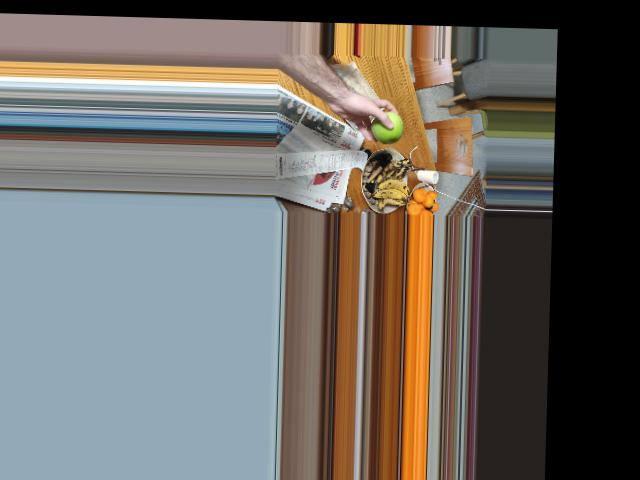apple: (367, 115, 406, 144)
